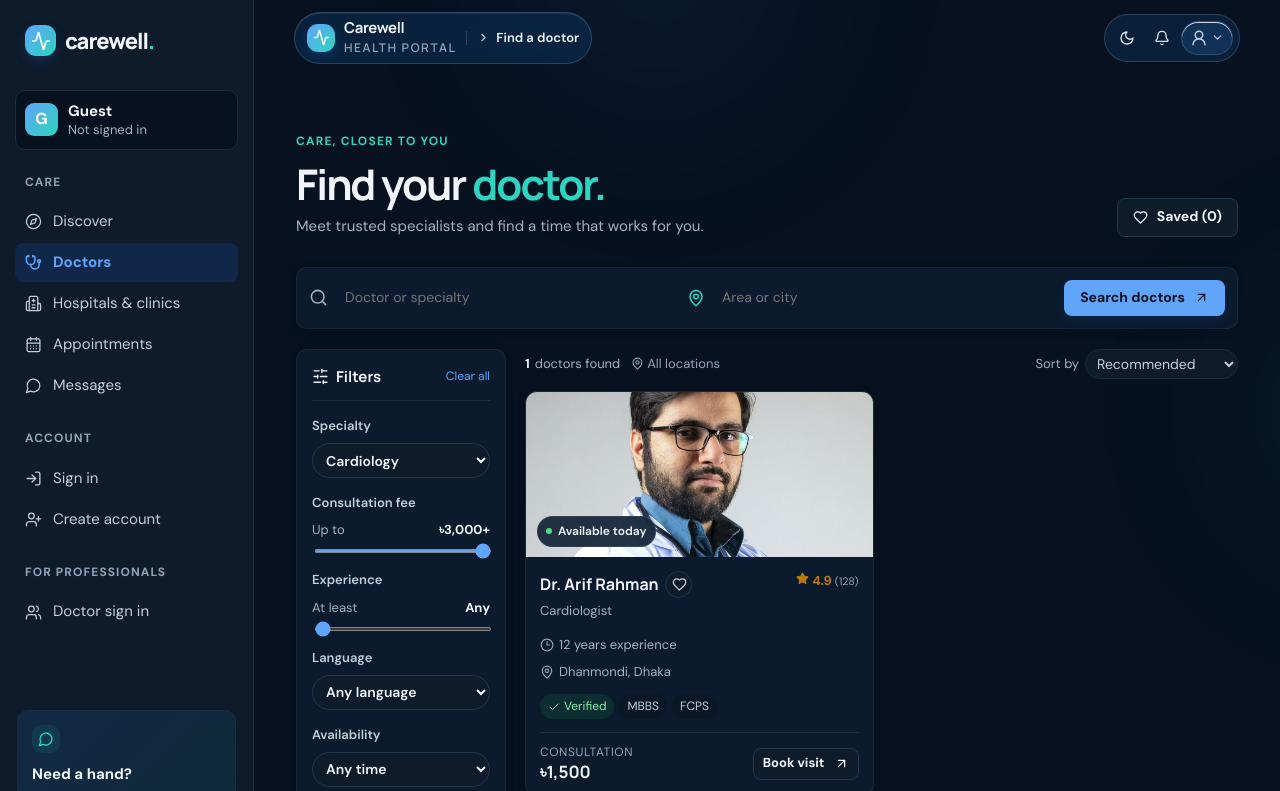
discovery (open to everyone) › reads filters from the URL and clears them
Expected: the link "Dr. Arif Rahman" is shown, x1=540 y1=573 x2=659 y2=595
Expected: the text "Dr. Nusrat Jahan" is not shown
Click the button "Clear all" at (468, 376), box x1=446 y1=367 x2=490 y2=386
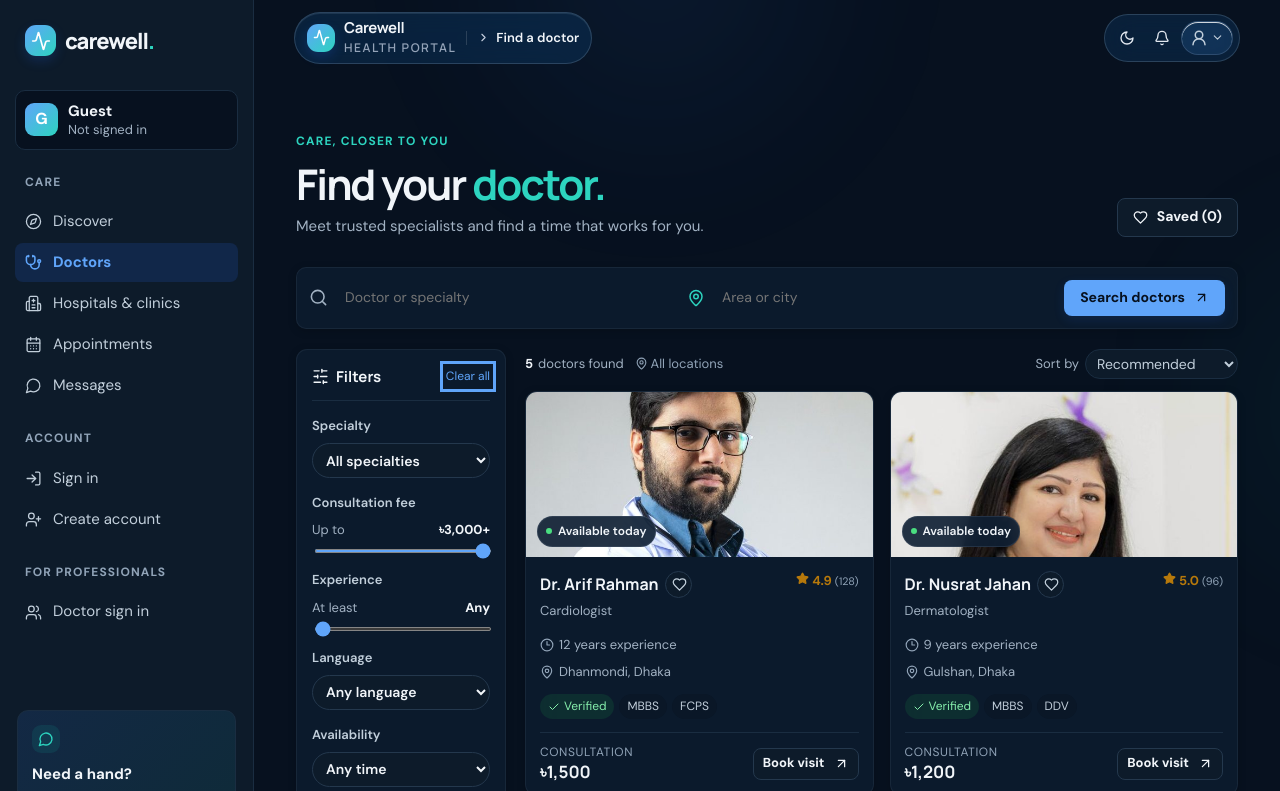
Expected: the link "Dr. Nusrat Jahan" is shown, x1=904 y1=573 x2=1031 y2=595
